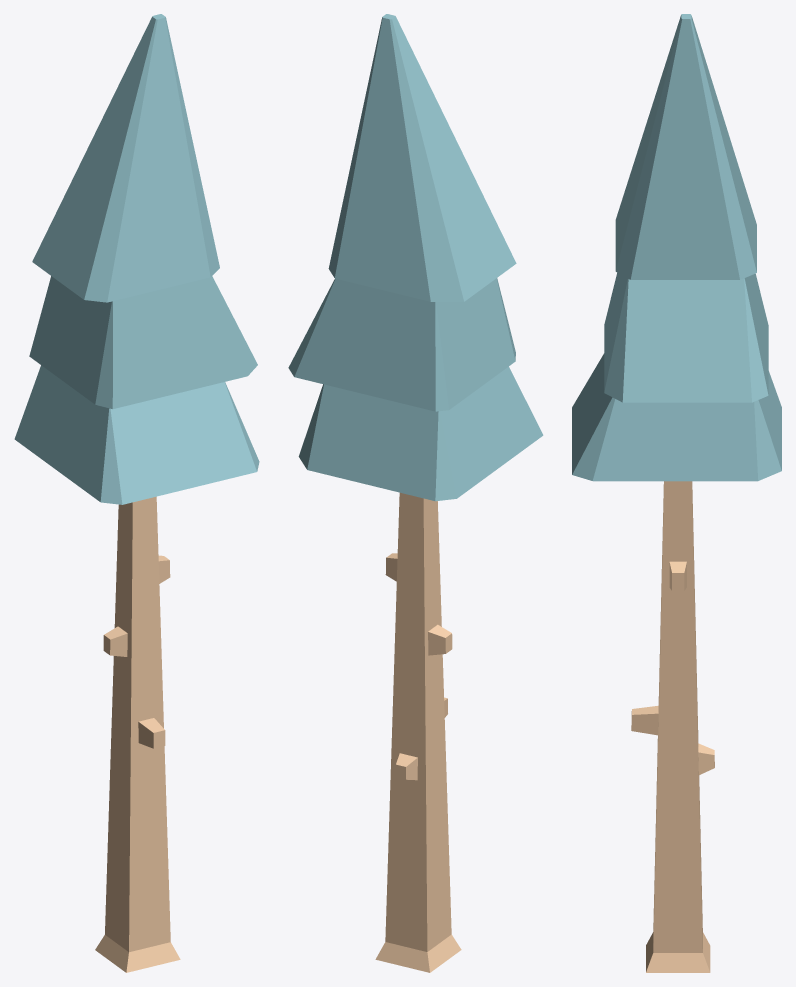
File: tree_pine_tallSquare_detailed.glb
The picture shows the model from 3 angles, left to right: view 1: azimuth 30°, elevation 25°; view 2: azimuth 150°, elevation 25°; view 3: azimuth 270°, elevation 25°; orthographic projection. The views are drawn at different scales.
Parts seen in each view (by area): view 1: tree_pine_tallSquare_detailed; view 2: tree_pine_tallSquare_detailed; view 3: tree_pine_tallSquare_detailed.
Boxes of the visible parts, box(x1,y1,x2,y2) form: tree_pine_tallSquare_detailed: box(14, 14, 259, 972); tree_pine_tallSquare_detailed: box(288, 14, 543, 972); tree_pine_tallSquare_detailed: box(572, 14, 781, 972).
Bounding box in the file's own units: 0.3863 × 1.97 × 0.392.
